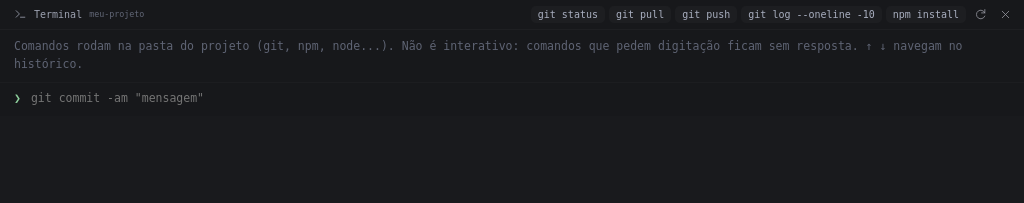
Scenario: Terminal › mostra código de saída de falhas e tempo esgotado
Step 1. Type "npm test" into the field named "Comando do terminal" → (519, 98), box [29, 89, 1010, 108]
Then press Enter
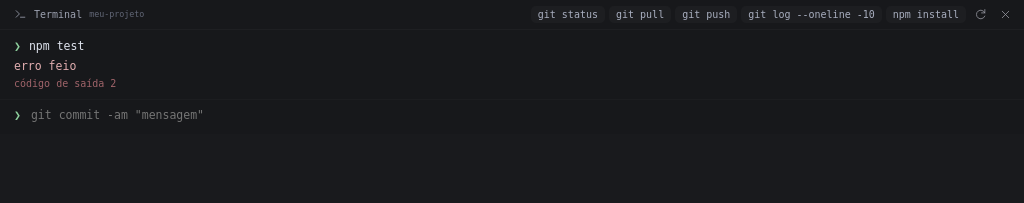
Now the text "código de saída 2" is shown, box [14, 78, 116, 89]
Step 2. Type "npm run dev" into the field named "Comando do terminal" → (519, 116), box [29, 106, 1010, 126]
Then press Enter
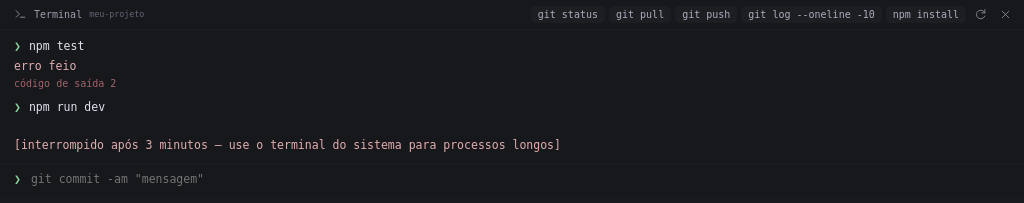
Now the text "interrompido após 3 minutos" is shown, box [14, 138, 561, 152]
